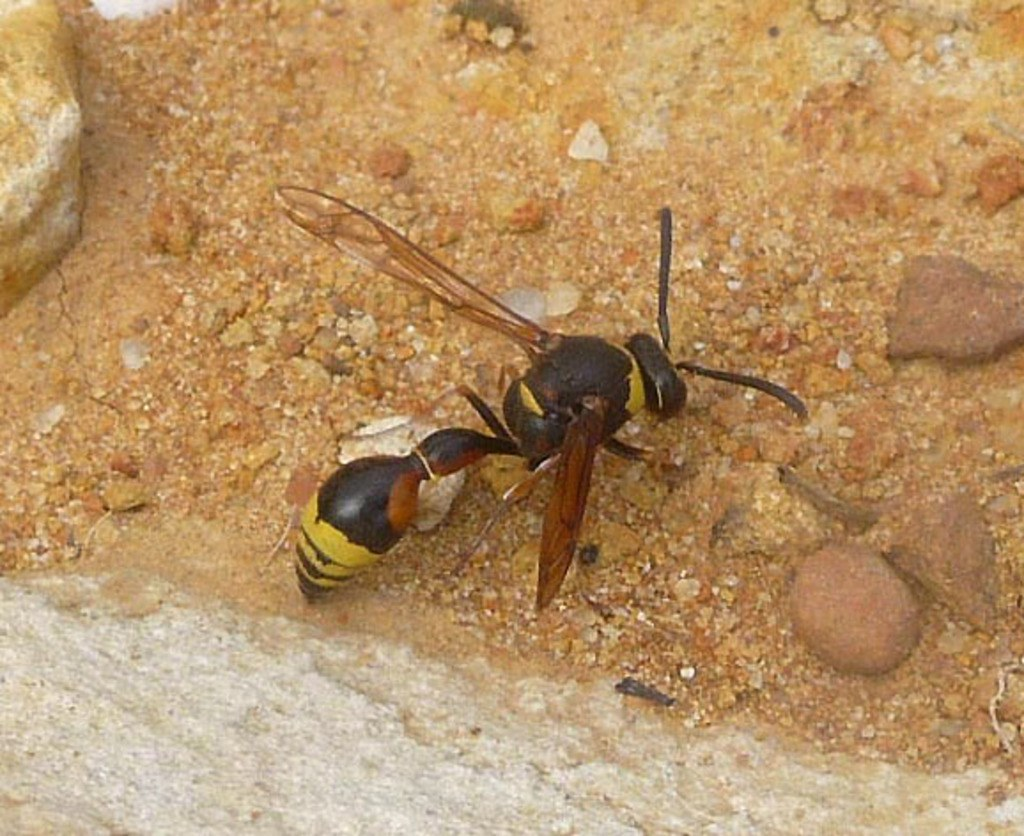bee: (250, 174, 806, 620)
